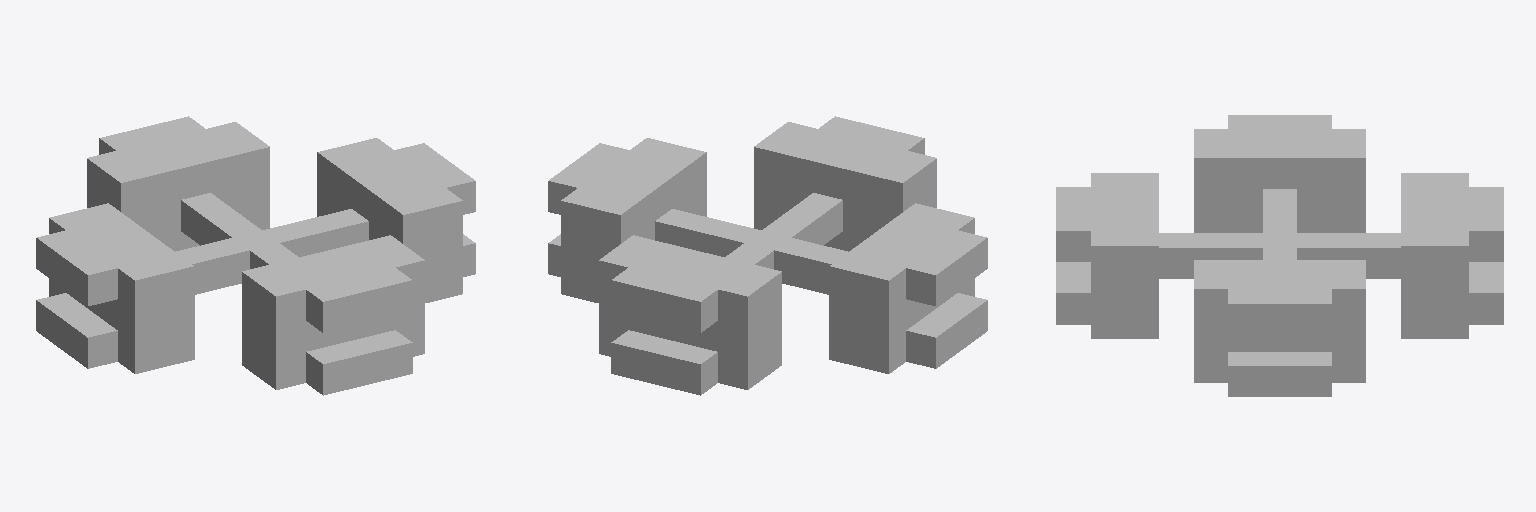
Rendered from spreaderTop.obj.
The picture shows the model from 3 angles: view 1: azimuth 30°, elevation 25°; view 2: azimuth 150°, elevation 25°; view 3: azimuth 270°, elevation 25°; orthographic projection.
Size of the model in its own units: 0.52 by 0.12 by 0.52.